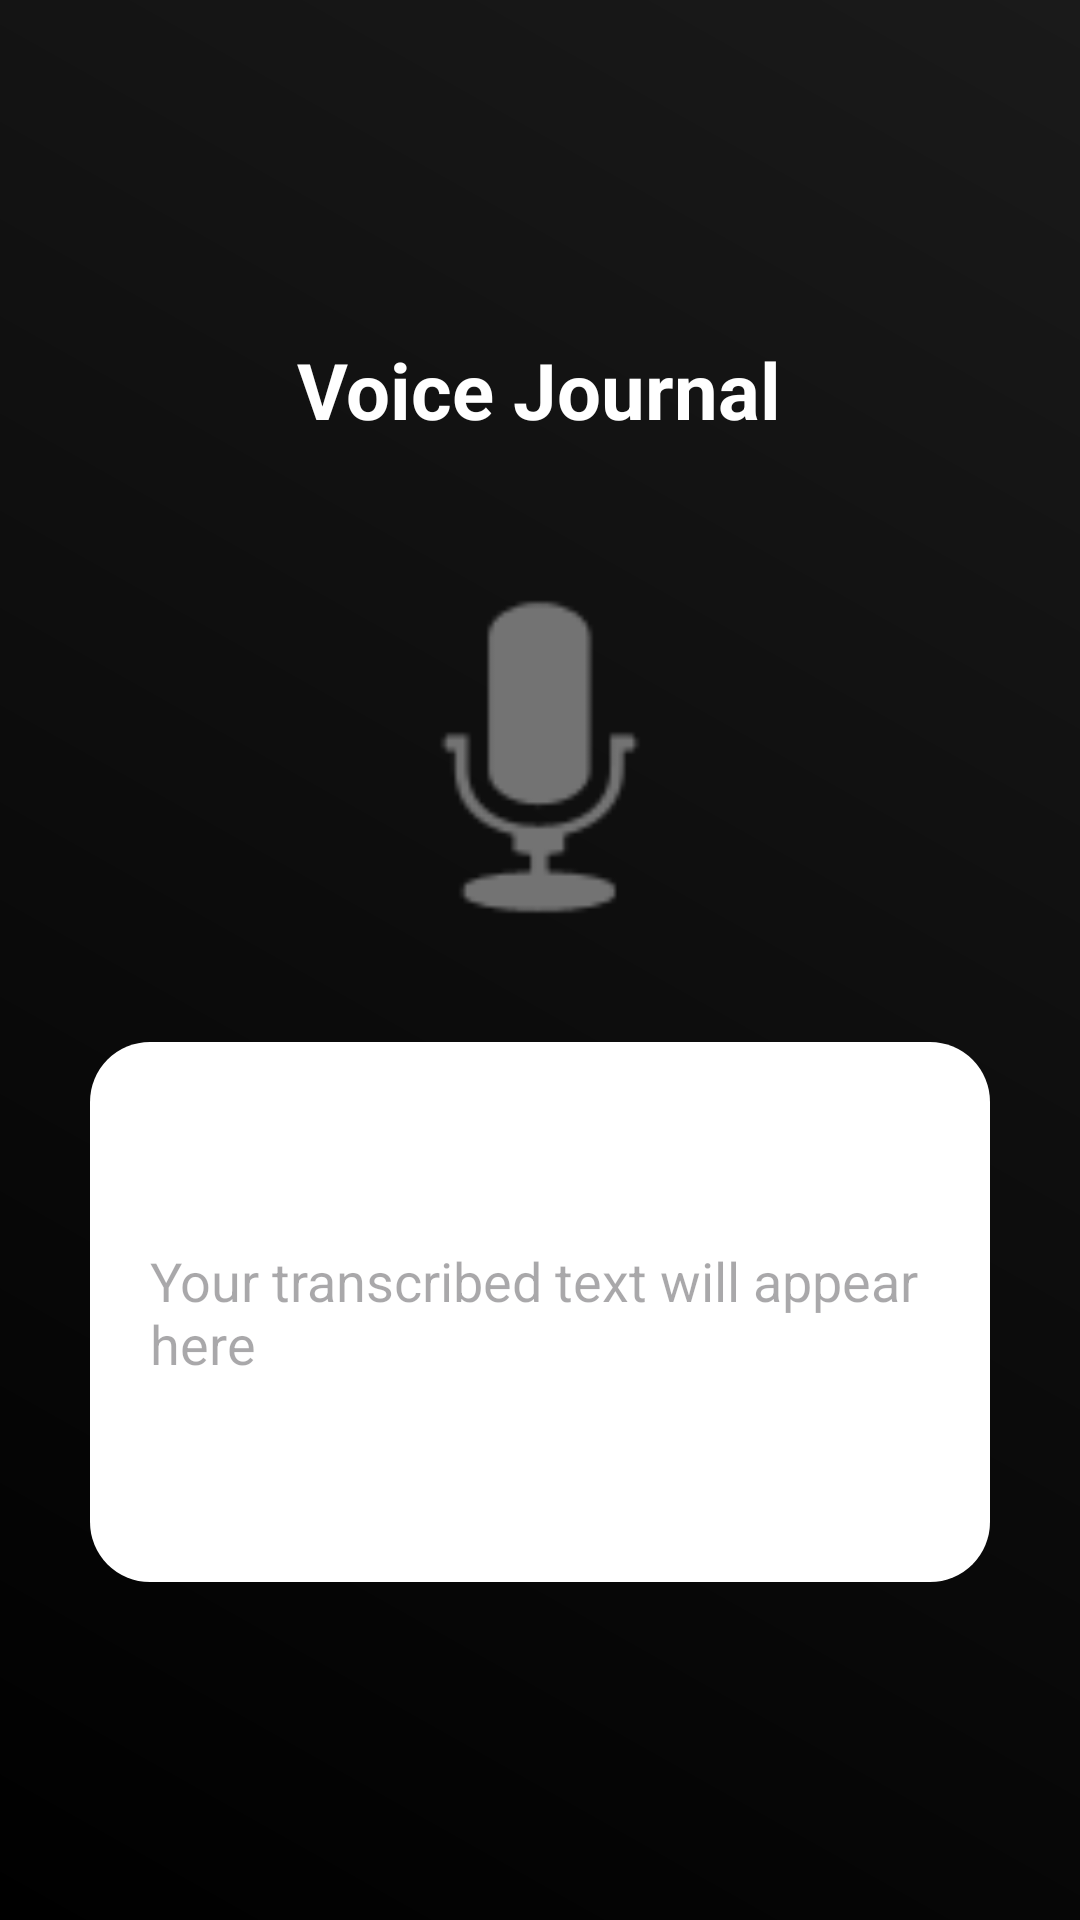

Icons on this 1080*1920 Android screen, each with its box as (x1, y1, x2, y2):
Mic icon: (442, 601, 638, 913)
